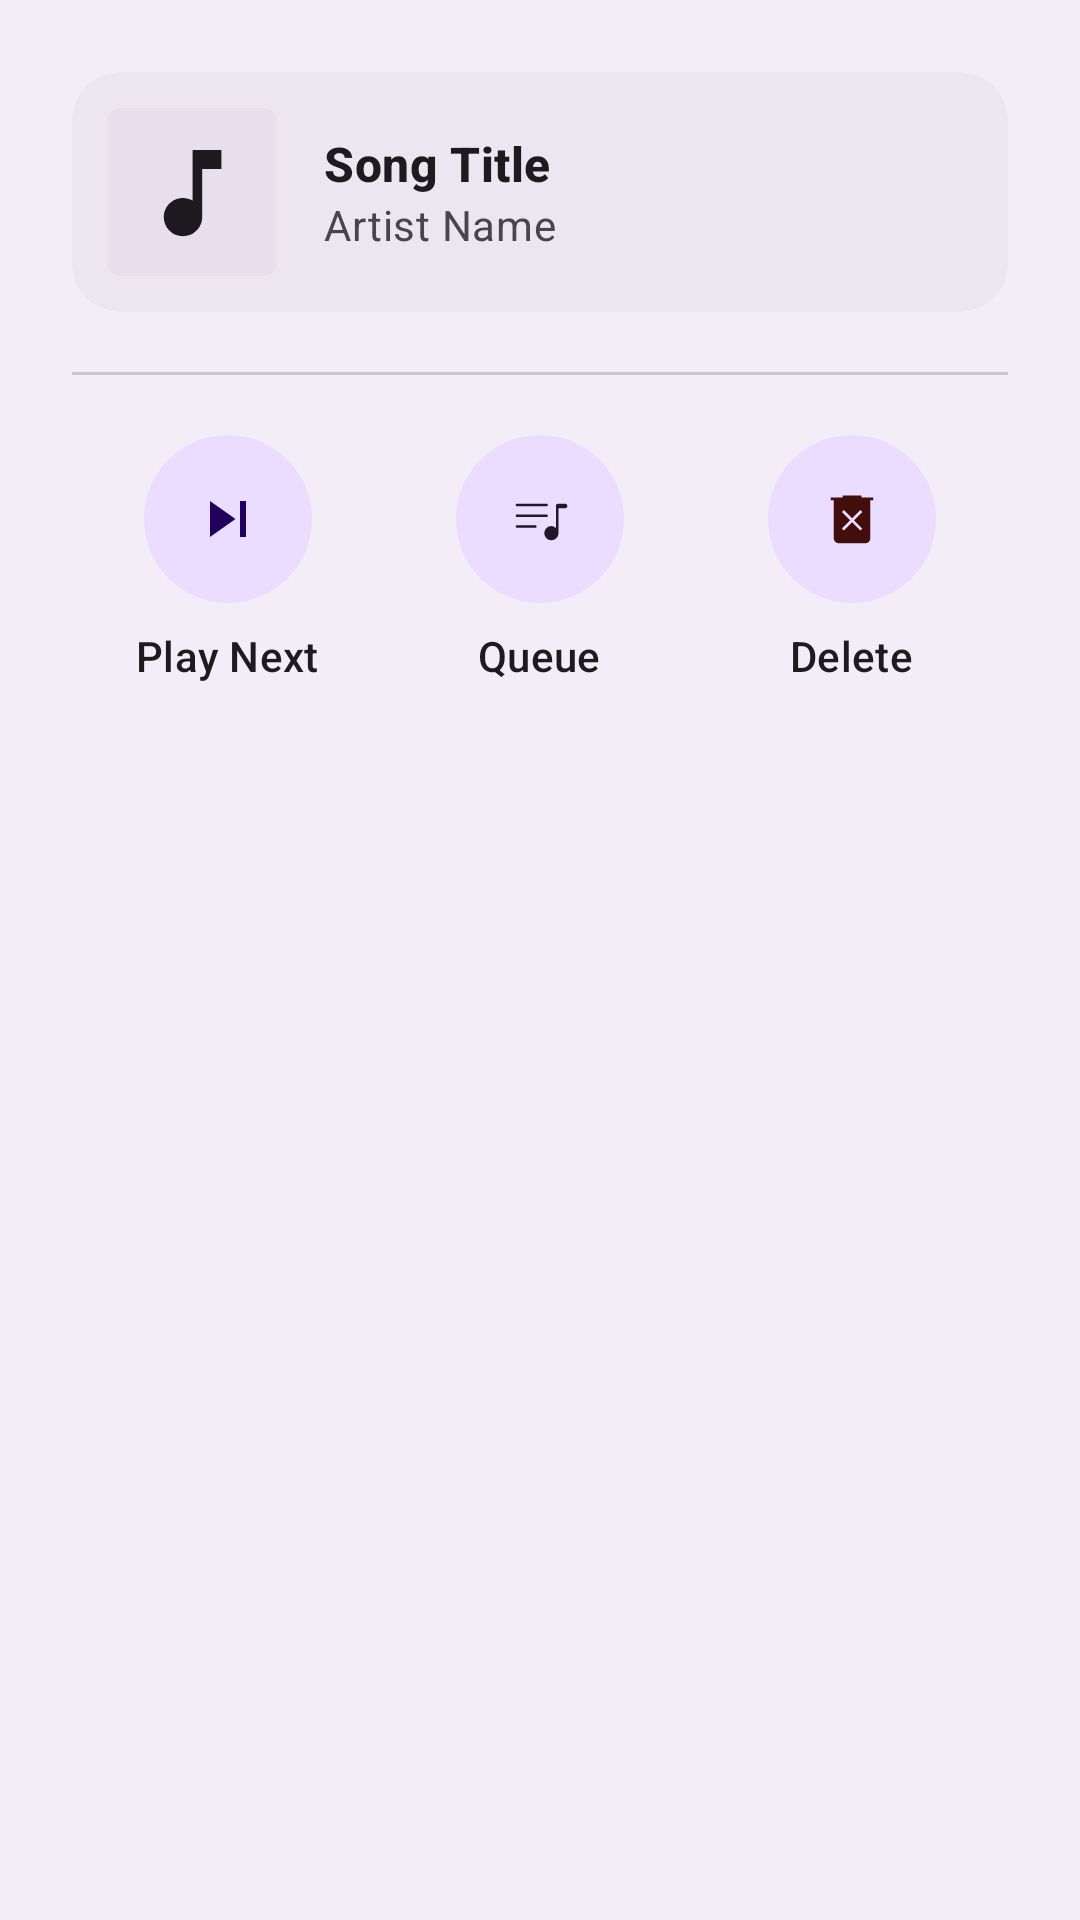

Screen size 1080px×1920px. Icon name, then its box in pixels as [left=x1, top=y1, right=x2, bottom=y2]:
album art: [left=163, top=150, right=222, bottom=237]
